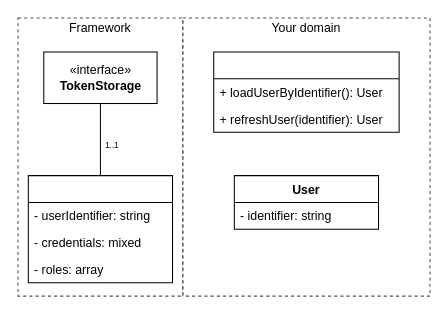
Some shapes in this 448 by 314 pixel diagram are drawn without their labels. The shapes that lost their labels are listed below. From the top down, each one's box as (x1, y1, x2, y2) in pixels, then its label:
(213, 51, 399, 132): UserProvider
(27, 175, 173, 283): Token
